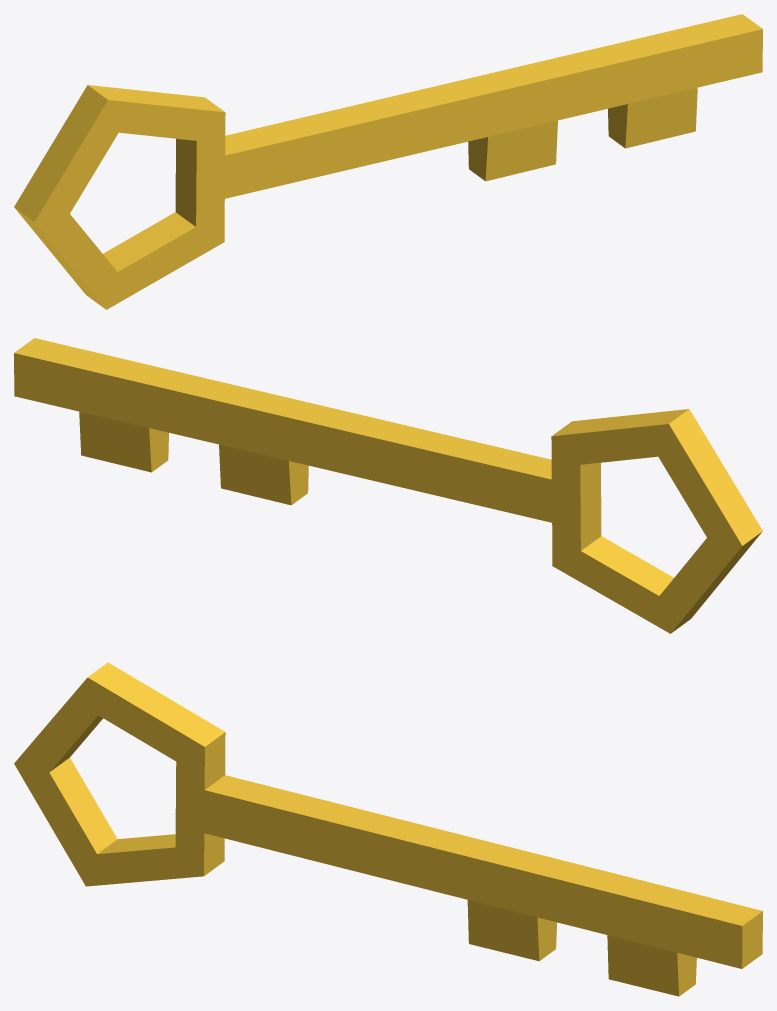
Rendered from Key.fbx.
The picture shows the model from 3 angles, top to bottom: view 1: azimuth 30°, elevation 25°; view 2: azimuth 150°, elevation 25°; view 3: azimuth 330°, elevation 25°; orthographic projection.
Parts seen in each view (by area): view 1: Key; view 2: Key; view 3: Key.
Part boxes in pixels (x1,y1,x2,y2): Key: [14, 14, 762, 309]; Key: [14, 338, 762, 633]; Key: [14, 662, 762, 996].
Size of the model in its own units: 90.51 by 24.88 by 4.42.
